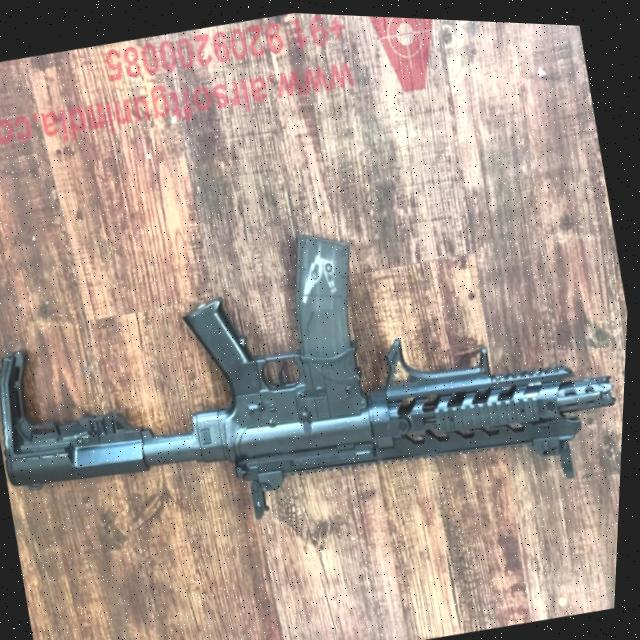firearm: (0, 157, 635, 588)
